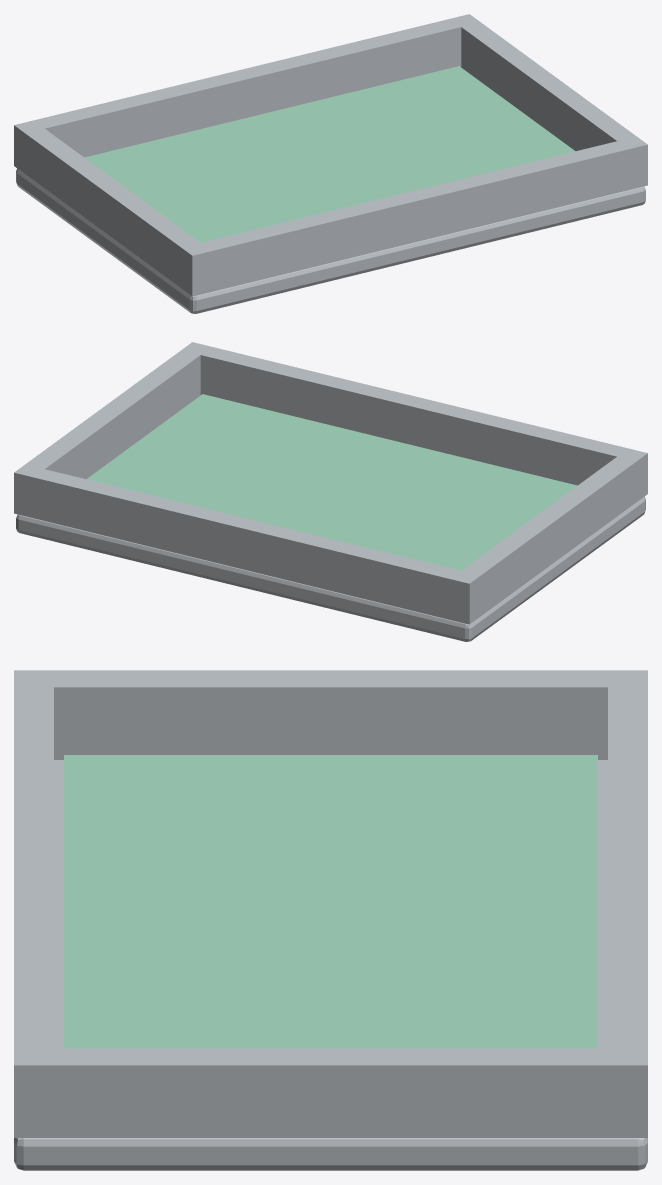
File: charola.obj
The picture shows the model from 3 angles, top to bottom: view 1: azimuth 30°, elevation 25°; view 2: azimuth 150°, elevation 25°; view 3: azimuth 270°, elevation 25°; orthographic projection. The views are drawn at different scales.
Parts seen in each view (by area): view 1: pieza_1, pieza_2, pieza_0; view 2: pieza_1, pieza_2, pieza_0; view 3: pieza_2, pieza_1, pieza_0.
Boxes of the visible parts, x1=… form: pieza_1: x1=14, y1=14, x2=647, y2=296; pieza_2: x1=84, y1=66, x2=575, y2=242; pieza_0: x1=16, y1=168, x2=645, y2=313; pieza_1: x1=14, y1=342, x2=647, y2=624; pieza_2: x1=86, y1=394, x2=577, y2=570; pieza_0: x1=16, y1=496, x2=645, y2=641; pieza_2: x1=64, y1=755, x2=597, y2=1048; pieza_1: x1=14, y1=670, x2=647, y2=1137; pieza_0: x1=14, y1=760, x2=647, y2=1170.
Size of the model in its own units: 0.28 by 0.036 by 0.19.
